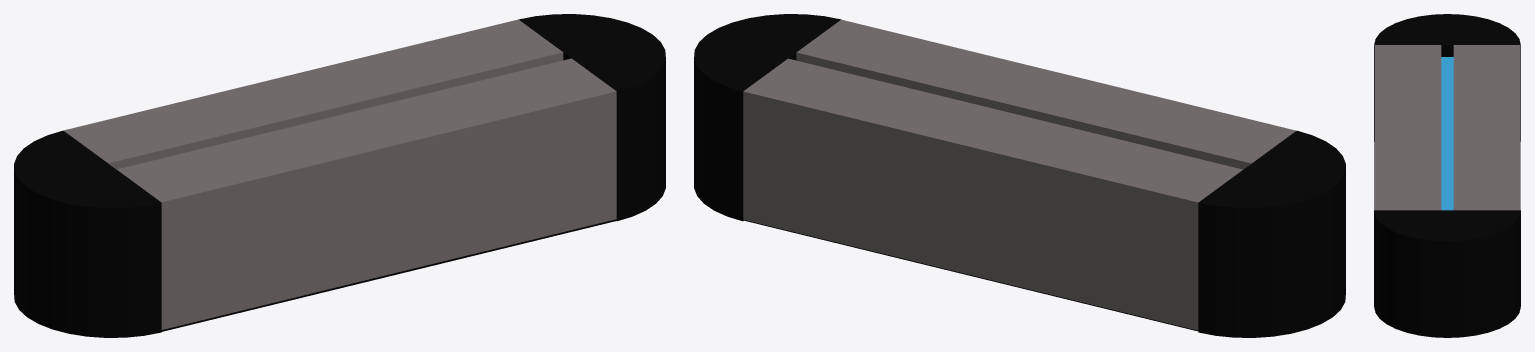
The model's file is limpiador_cuchillo.glb.
3 views of the same model, side by side, from view 1: azimuth 30°, elevation 25°; view 2: azimuth 150°, elevation 25°; view 3: azimuth 270°, elevation 25° (orthographic). The views are drawn at different scales.
Visible parts, largest first — view 1: limpia_cuchillo; view 2: limpia_cuchillo; view 3: limpia_cuchillo.
Boxes of the visible parts, left/top/right/bottom form: limpia_cuchillo: left=14, top=14, right=665, bottom=337; limpia_cuchillo: left=694, top=14, right=1345, bottom=337; limpia_cuchillo: left=1374, top=14, right=1520, bottom=337.
Bounding box in the file's own units: 3.32 × 0.658 × 0.905.
